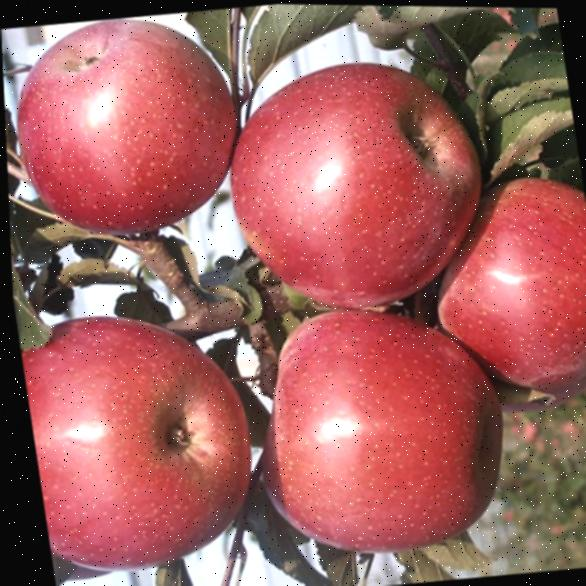HEALTHY: (234, 305, 516, 586), (213, 27, 486, 316), (14, 299, 275, 586), (0, 10, 245, 271), (409, 126, 586, 416)
